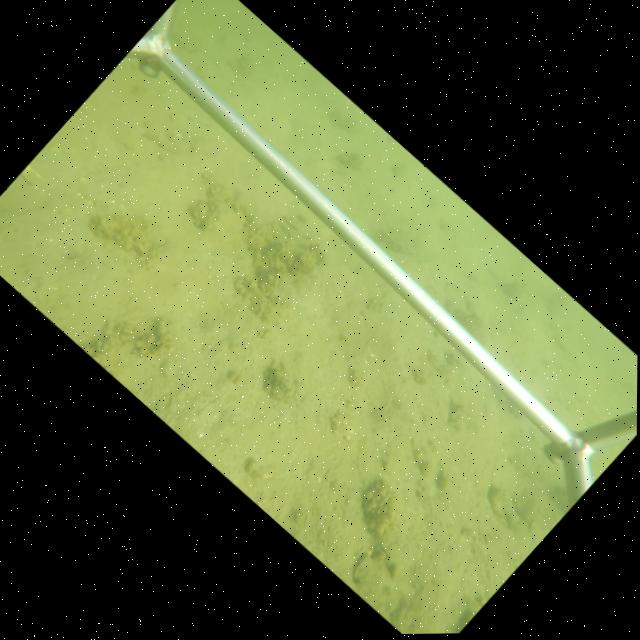Oyster-Indeterminate: (349, 552, 376, 585)
